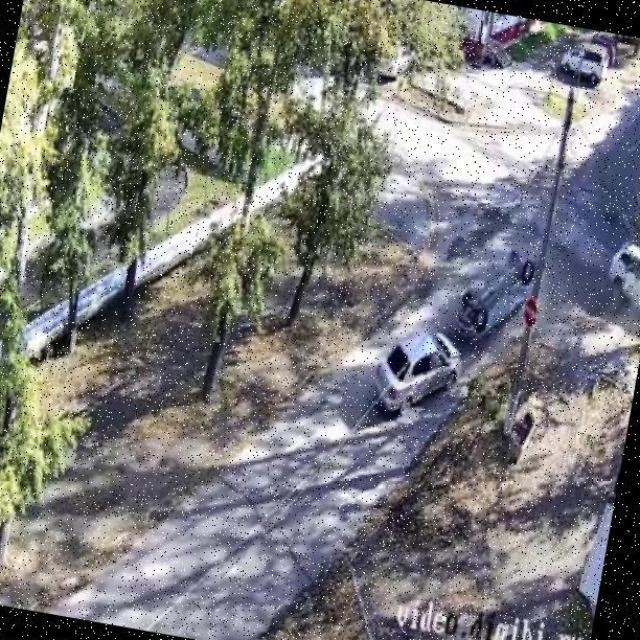accident: (456, 234, 536, 345)
